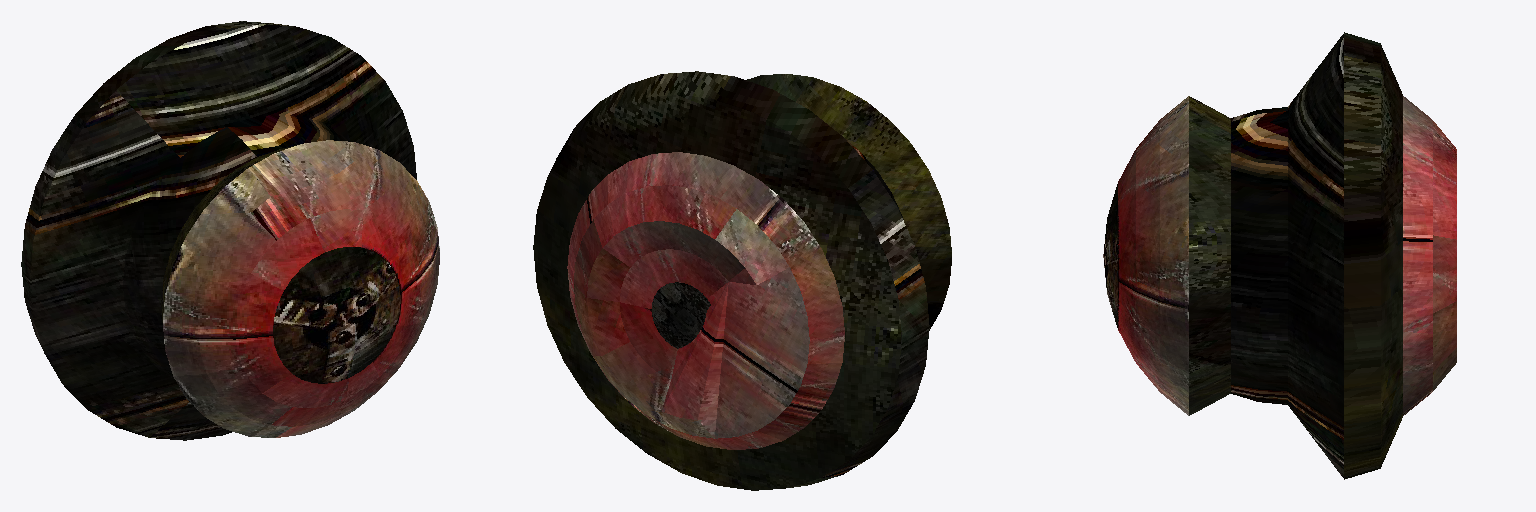
The picture shows the model from 3 angles: view 1: azimuth 30°, elevation 25°; view 2: azimuth 150°, elevation 25°; view 3: azimuth 270°, elevation 25°; orthographic projection.
Parts seen in each view (by area): view 1: Sphere; view 2: Sphere; view 3: Sphere.
Part boxes in pixels (x1,y1,x2,y2): Sphere: (21, 21, 439, 440); Sphere: (533, 71, 951, 490); Sphere: (1103, 32, 1456, 479).
Bounding box in the file's own units: 2.32 × 2.32 × 1.83.
Materials: 1 (1 with a texture image).